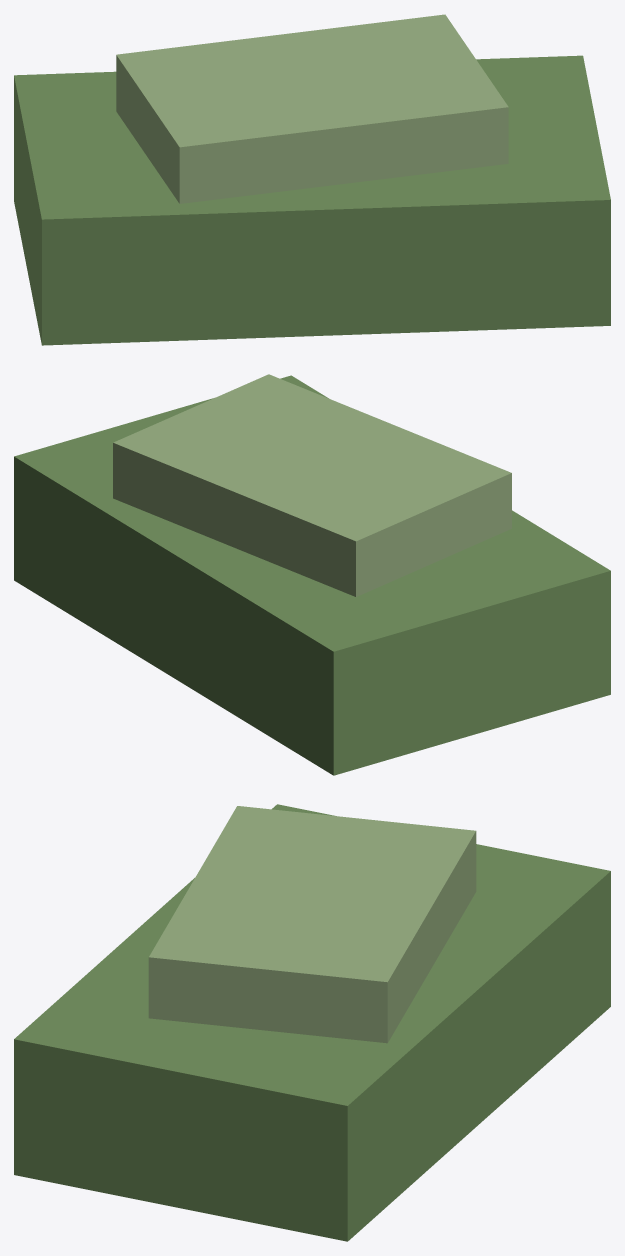
The model's file is structure.glb.
3 renders of one model, top to bottom at view 1: azimuth 30°, elevation 25°; view 2: azimuth 150°, elevation 25°; view 3: azimuth 270°, elevation 25°, orthographic. The views are drawn at different scales.
Visible parts, largest first — view 1: Box1, Box2; view 2: Box1, Box2; view 3: Box1, Box2.
Boxes of the visible parts, x1,y1,x2,y2 form: Box1: (14, 55, 610, 345); Box2: (116, 14, 508, 203); Box1: (14, 375, 610, 775); Box2: (113, 374, 511, 596); Box1: (14, 804, 610, 1241); Box2: (148, 806, 476, 1043).
Bounding box in the file's own units: 127 × 38.58 × 106.
